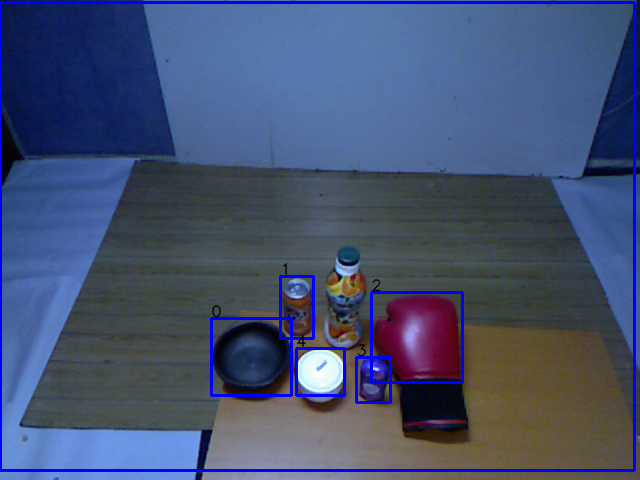azucarero: (290, 346, 349, 411)
desodorante: (356, 351, 393, 405)
greda: (210, 315, 293, 400)
guante: (372, 289, 473, 439)
lata: (279, 273, 317, 341)
yogurt: (319, 242, 372, 355)
